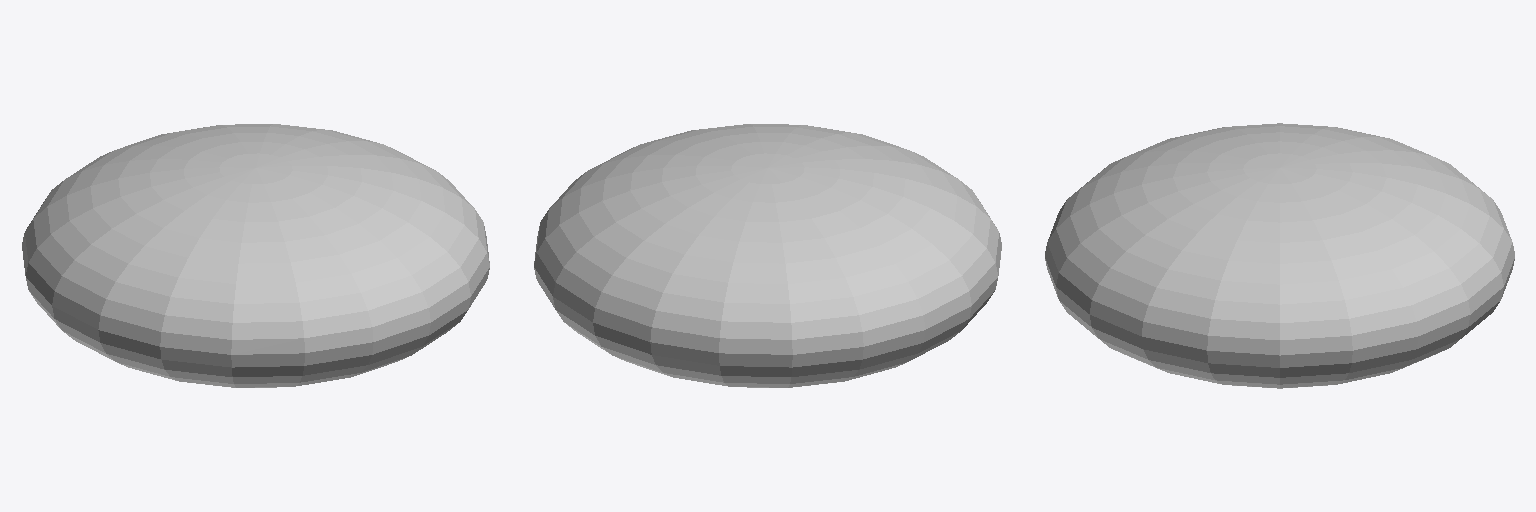
The model's file is R-ProjectorLight.obj.
The picture shows the model from 3 angles: view 1: azimuth 30°, elevation 25°; view 2: azimuth 150°, elevation 25°; view 3: azimuth 270°, elevation 25°; orthographic projection.
Parts seen in each view (by area): view 1: pSphere2; view 2: pSphere2; view 3: pSphere2.
Part boxes in pixels (bbox=[...]): pSphere2: bbox=[22, 124, 489, 387]; pSphere2: bbox=[534, 124, 1001, 387]; pSphere2: bbox=[1045, 123, 1514, 388].
Size of the model in its own units: 1.46 by 0.6045 by 1.46.